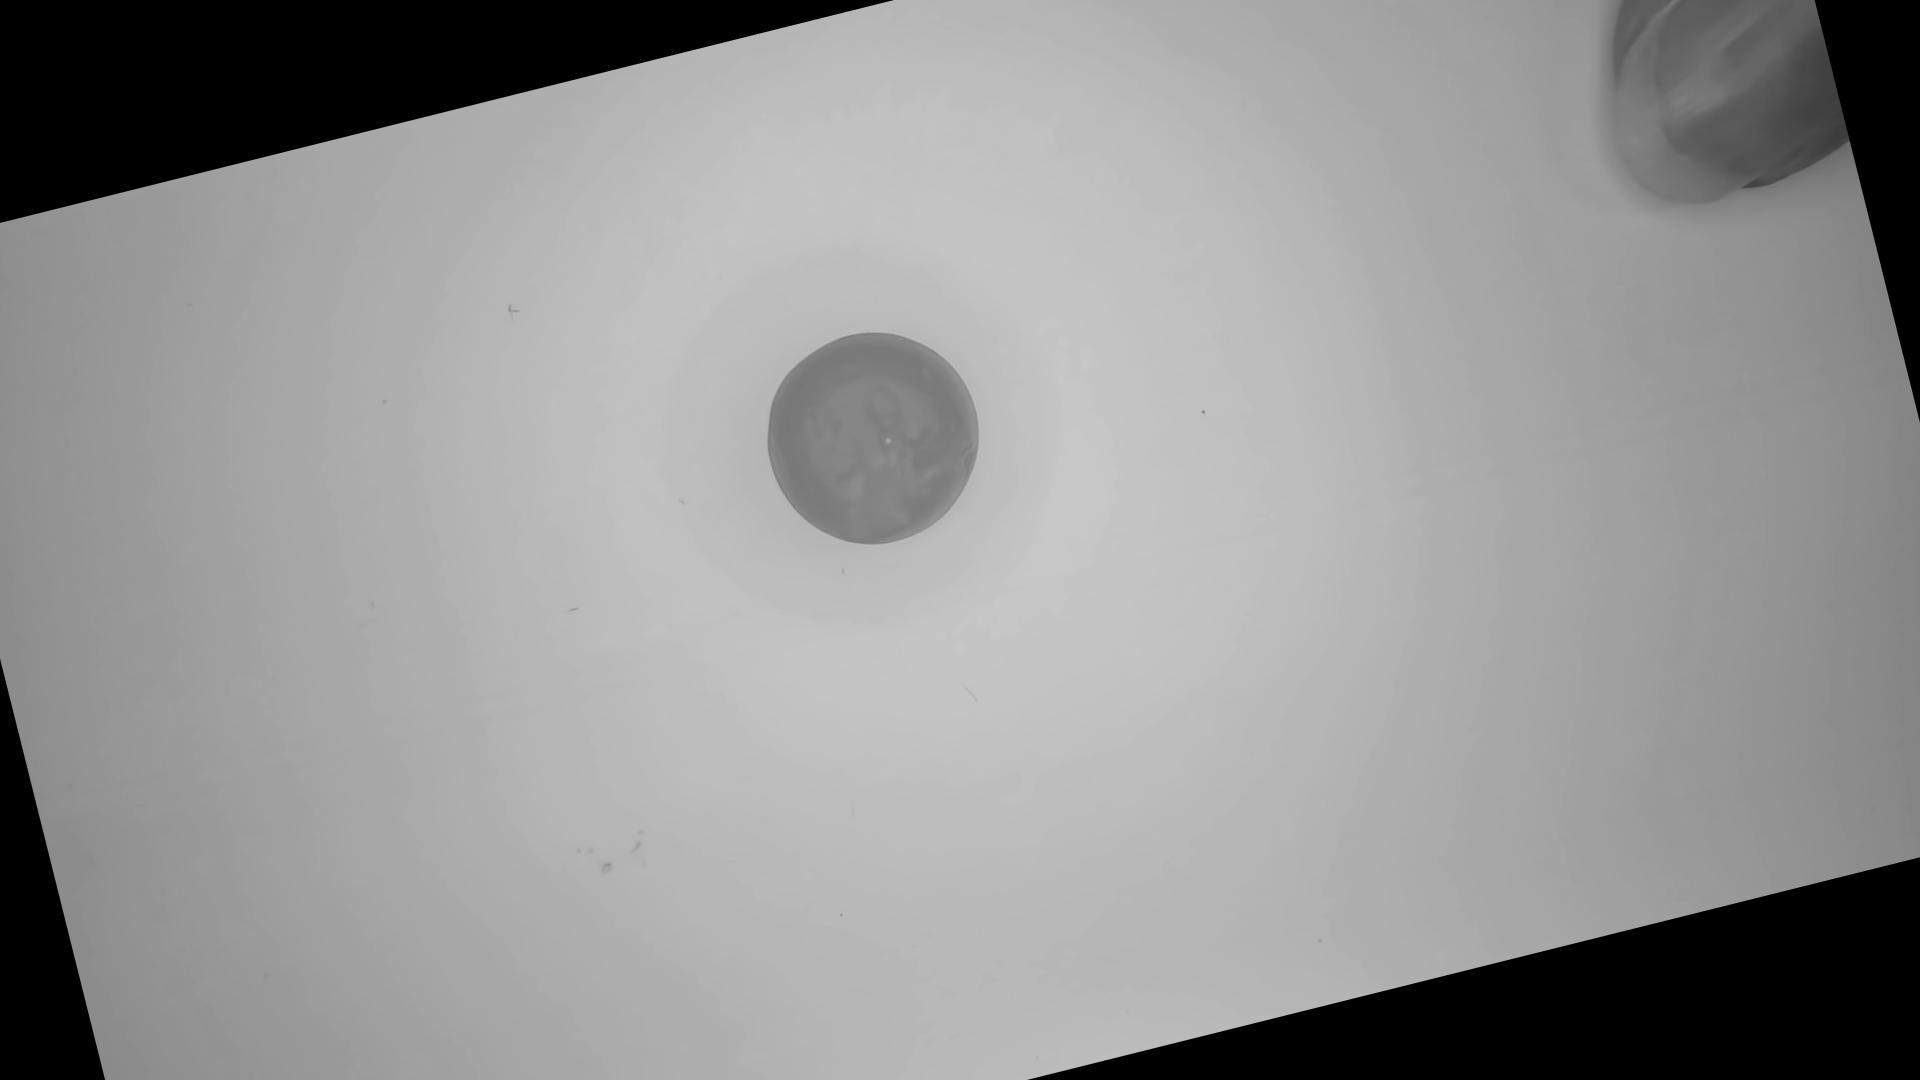abnormal: (742, 306, 1006, 571)
